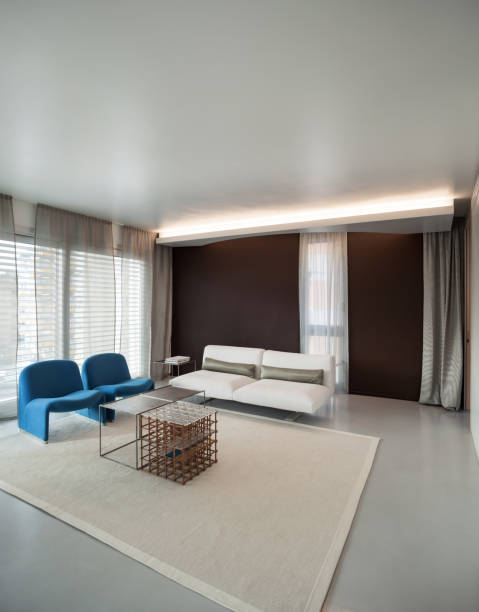chair: (15, 358, 106, 445), (78, 348, 155, 421)
sofa: (167, 339, 340, 426)
table: (97, 386, 221, 487)
